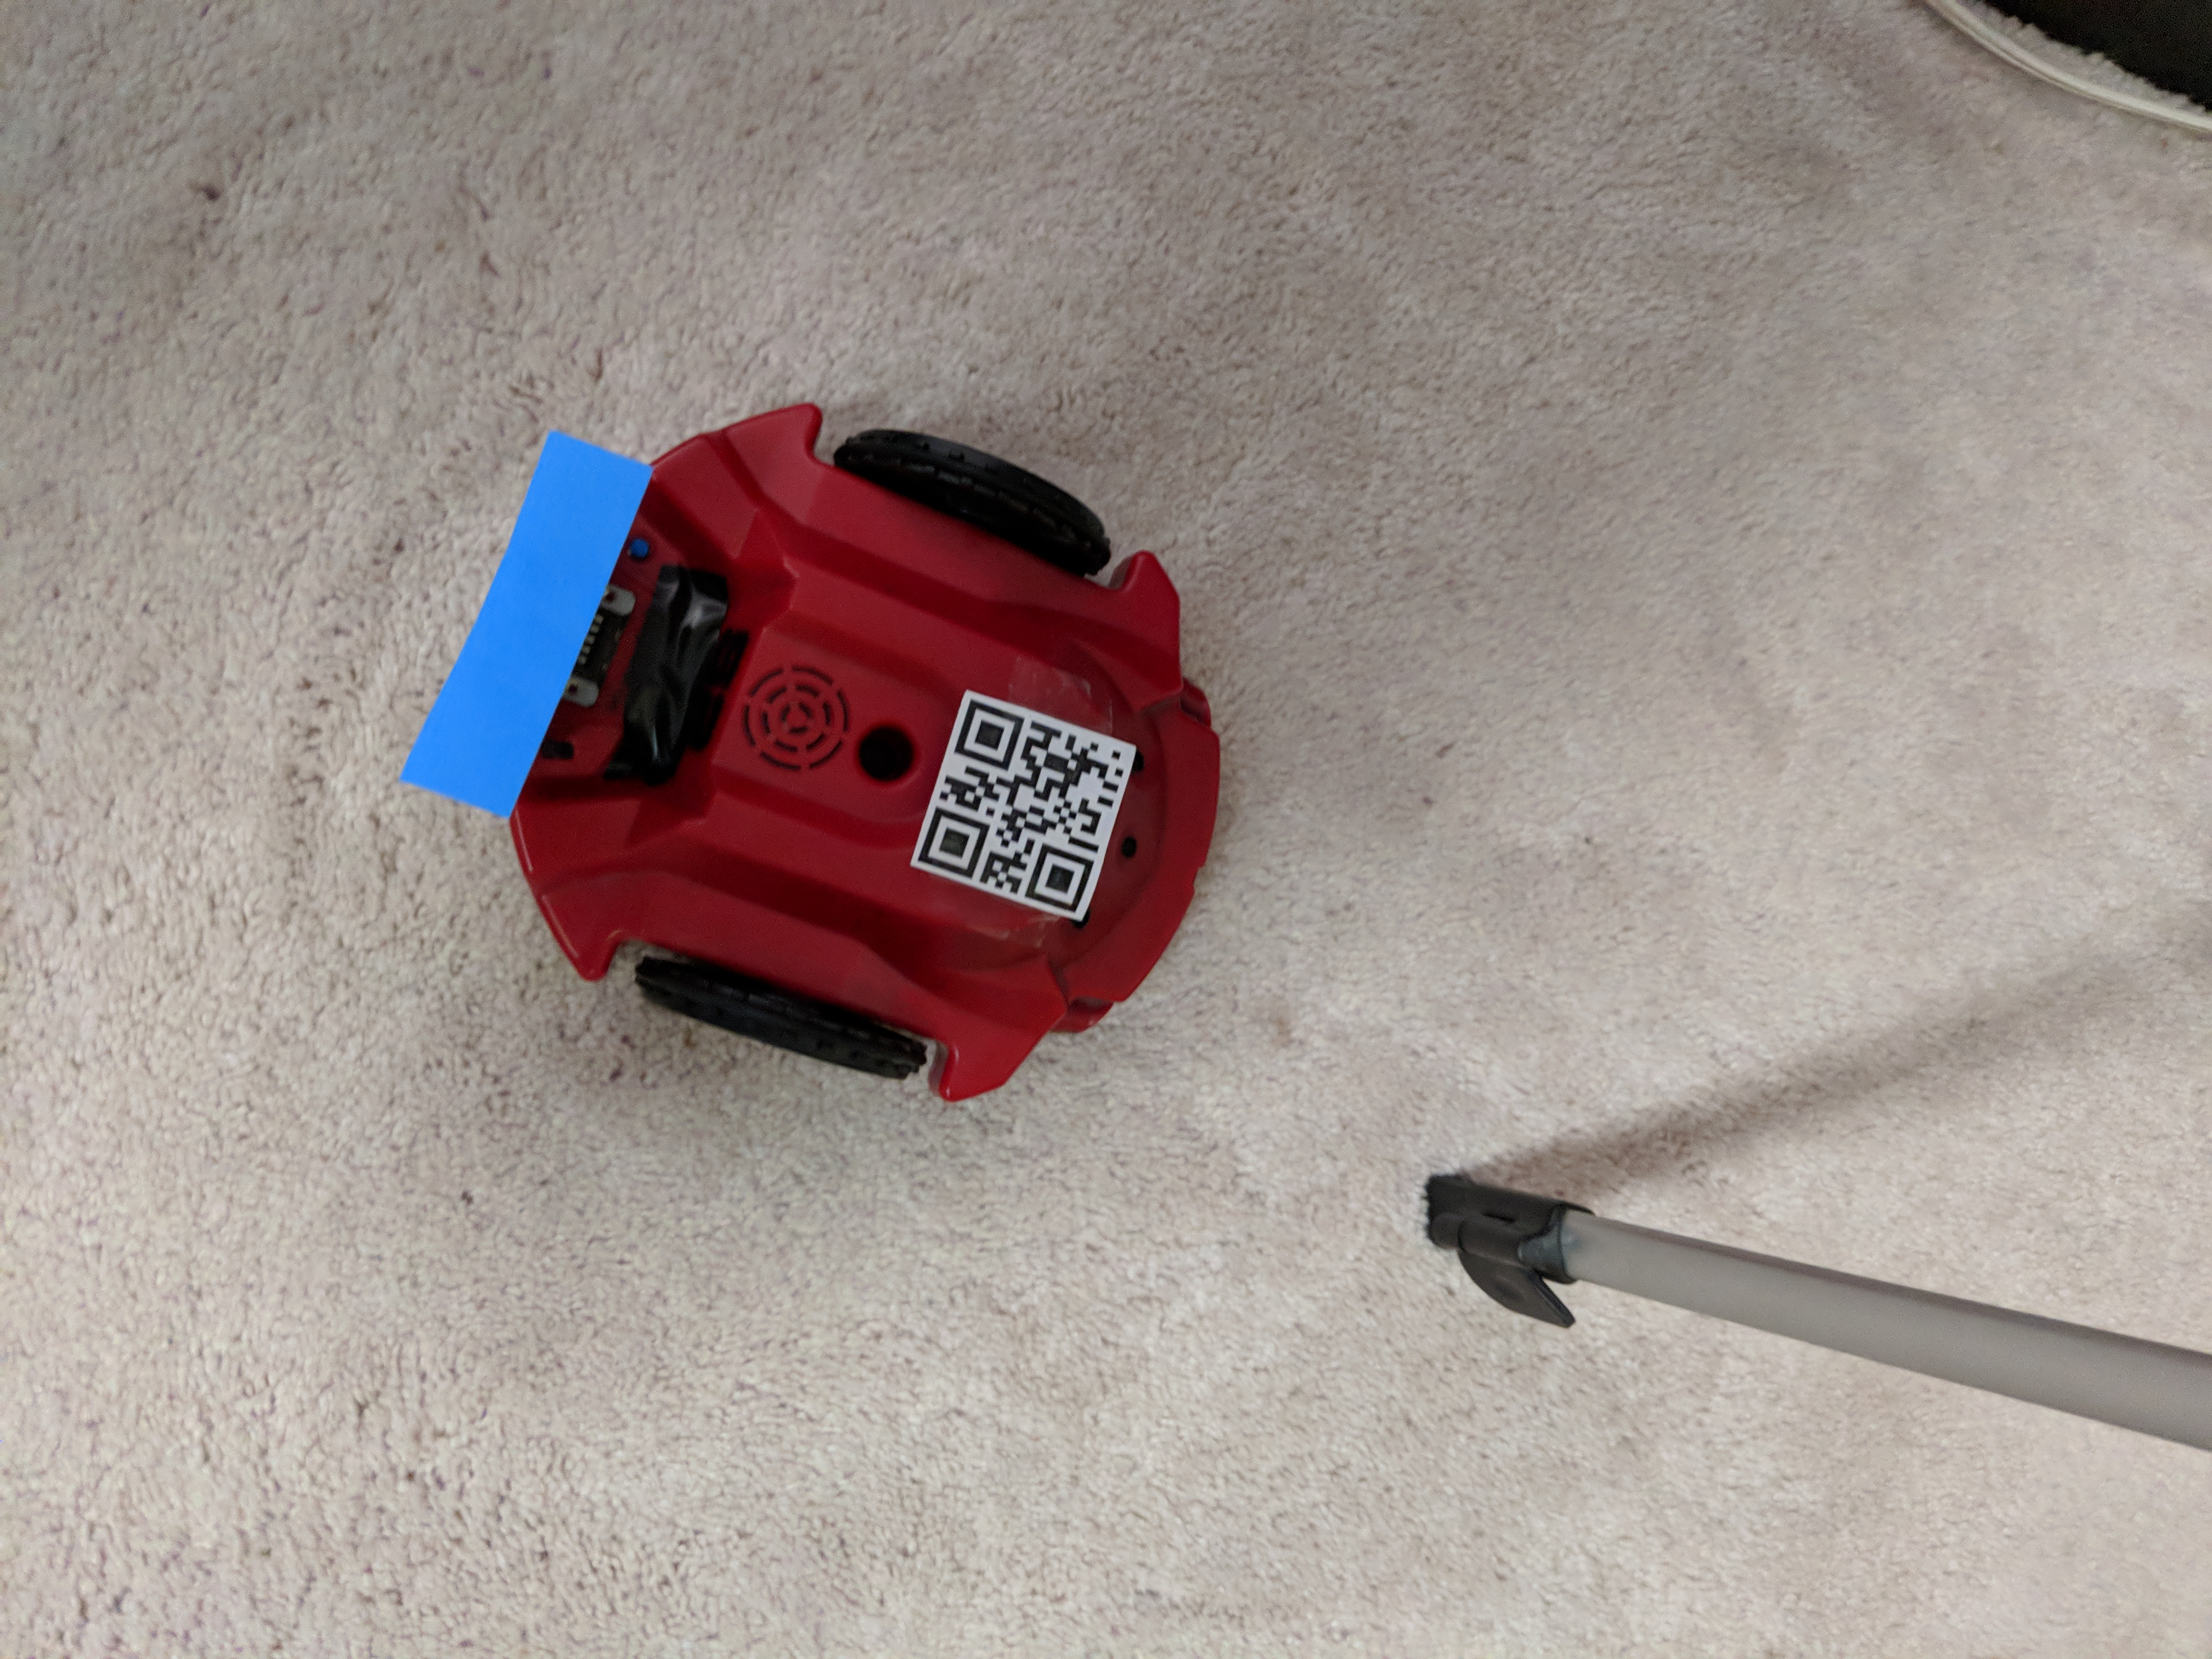chassis: (421, 373, 1233, 1121)
qr: (907, 688, 1127, 924)
